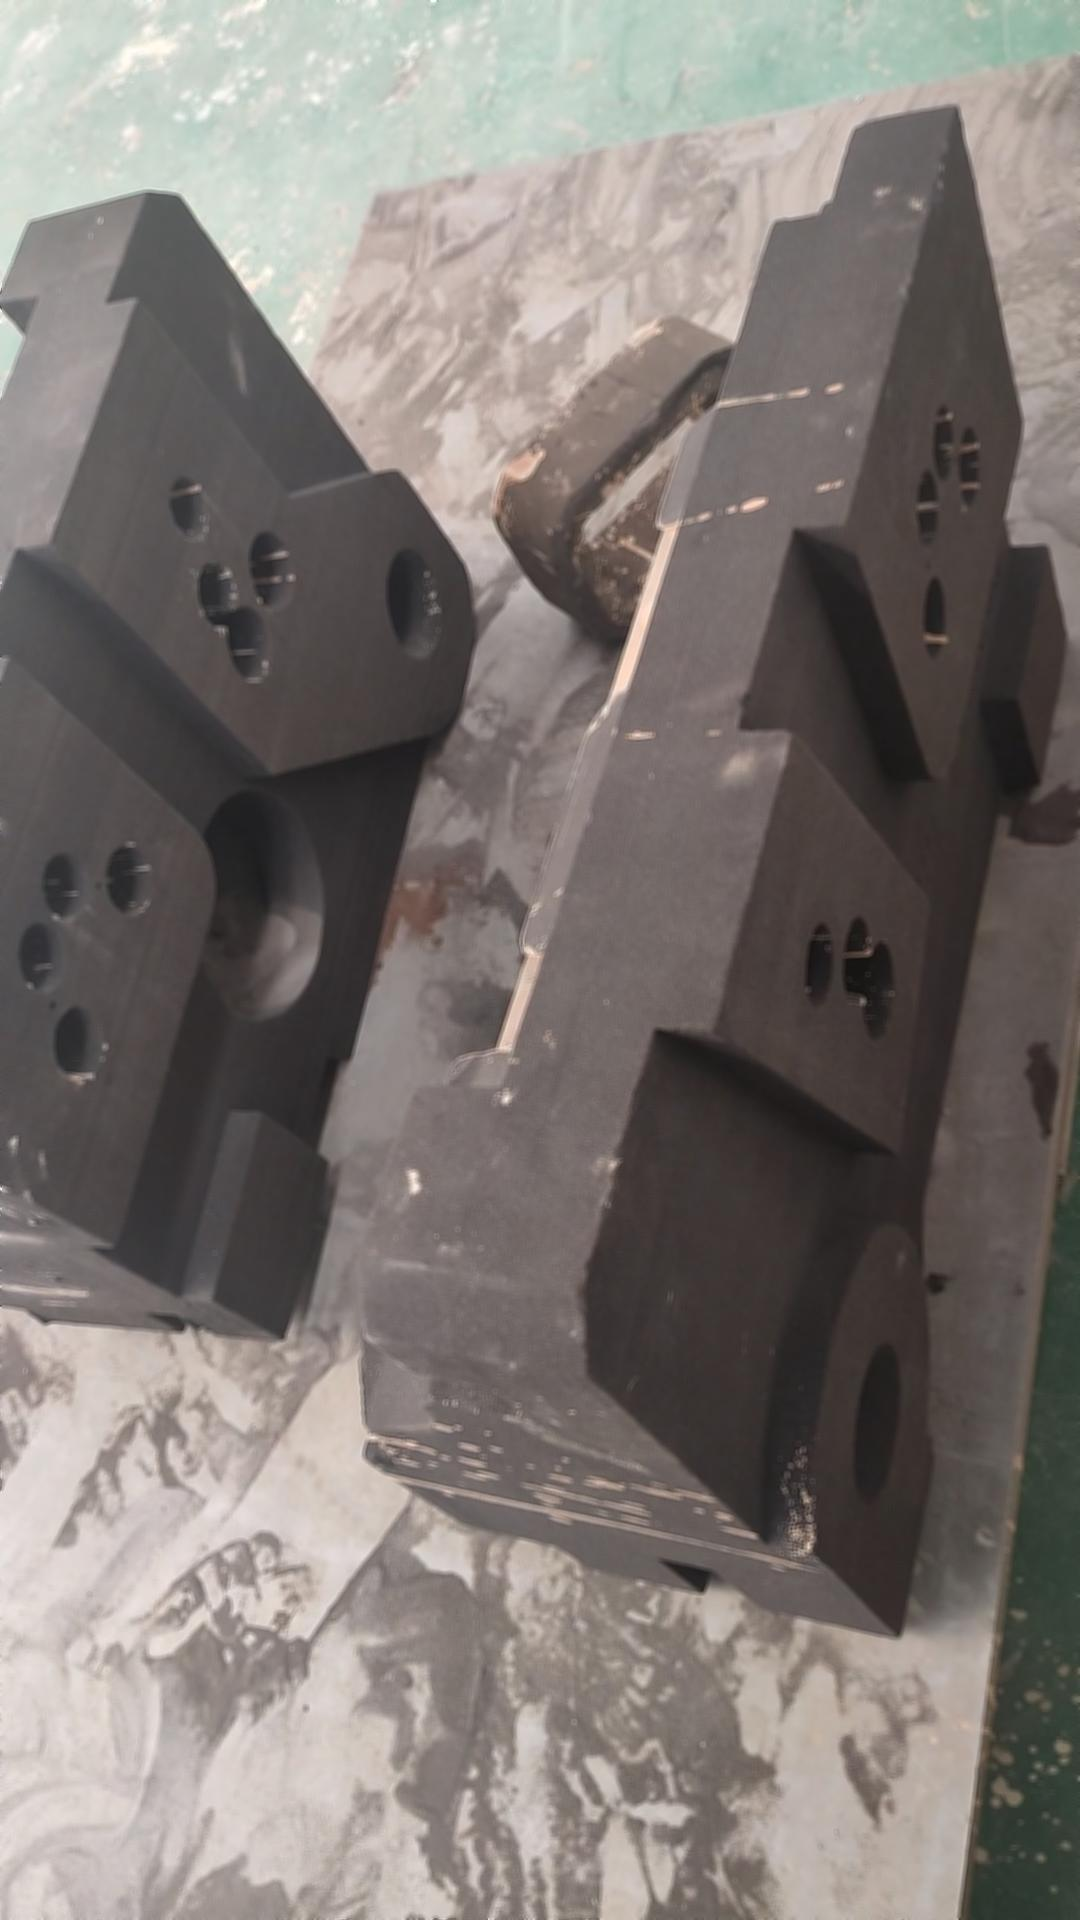pouring hole: (855, 1341, 905, 1498), (385, 550, 444, 659)
